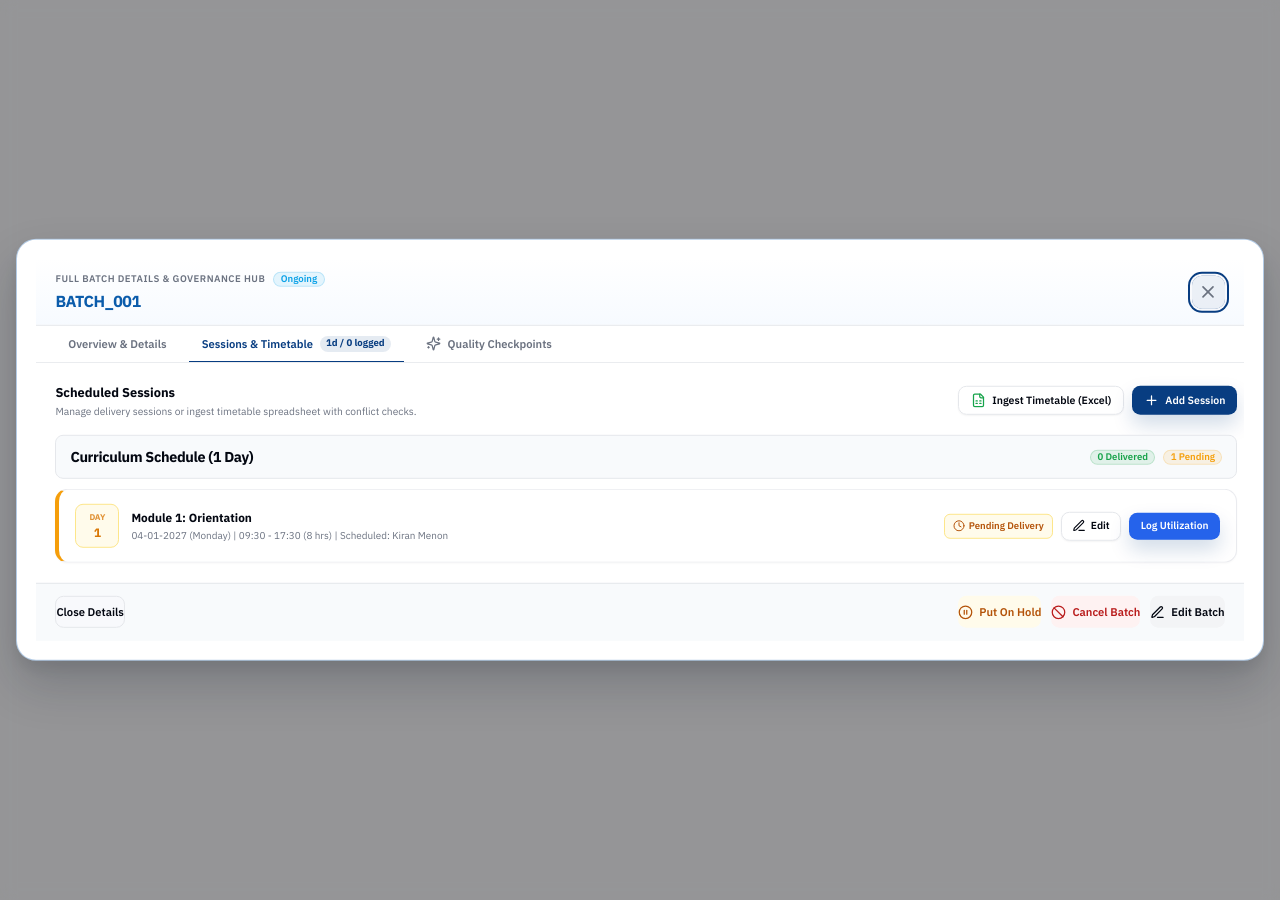
Log Faculty Utilization modal › asks before discarding an edited form, and keeps it open on keep editing
The image size is (1280, 900).
Click the button "Log Utilization".
click(1175, 526)  # box [1129,513,1220,540]
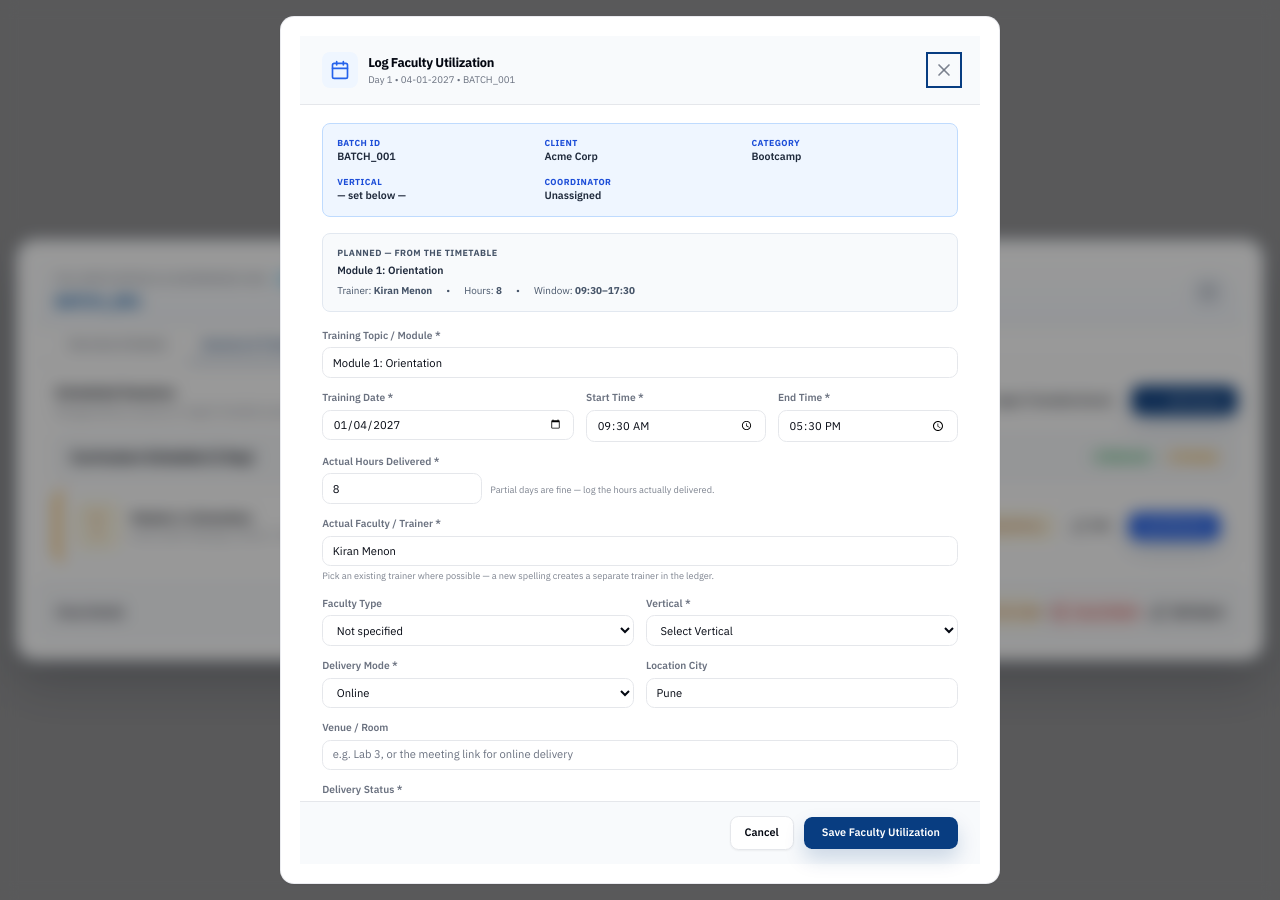
Expected: the dialog "Log Faculty Utilization" is shown, [280,16,1000,884]
Replace the text in the field labelled "Actual Faculty / Trainer *" with "Rohan Dutta" at (640, 551), box [322,536,958,566]
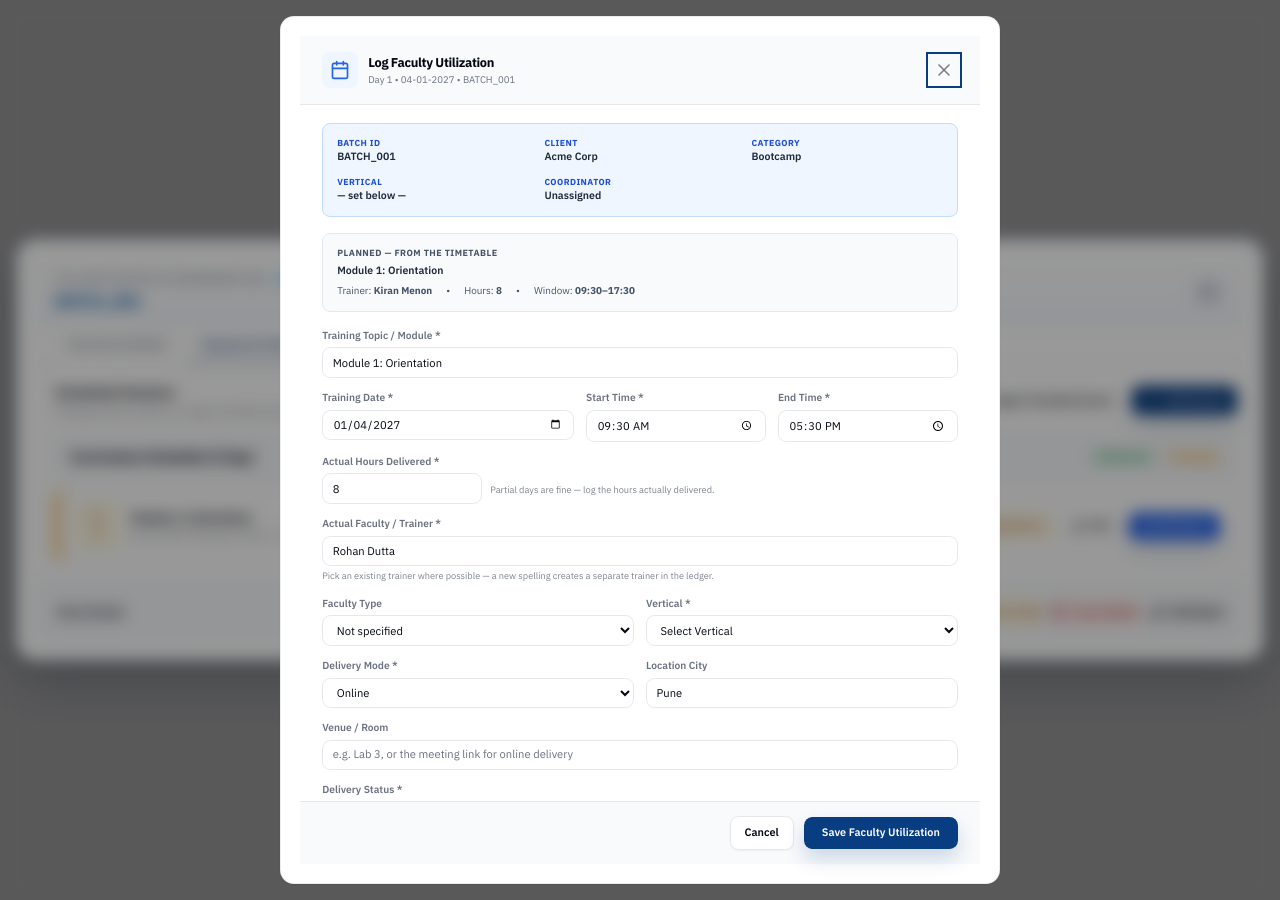
Click the button "Cancel".
click(762, 833)  # box [730,816,794,850]
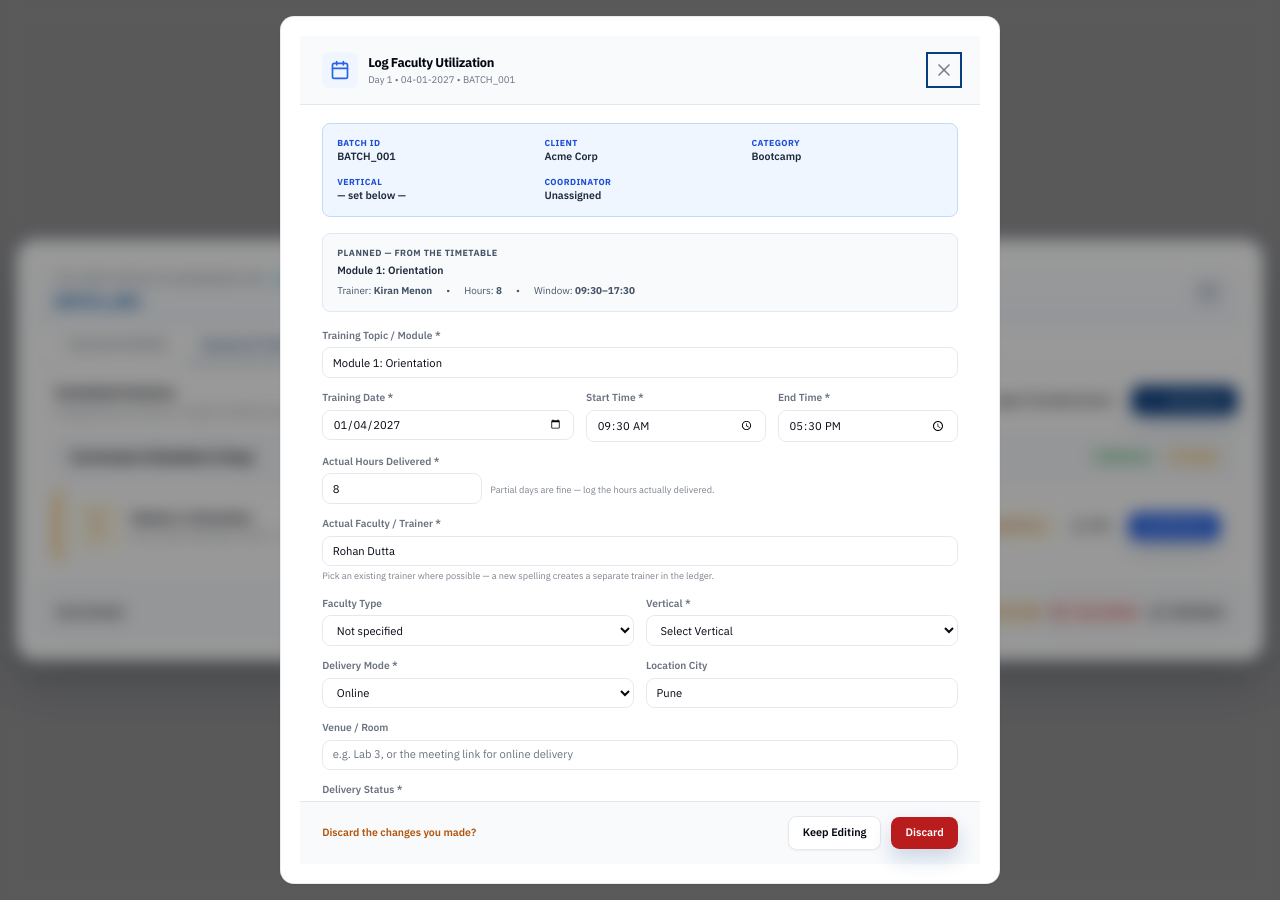
Expected: the dialog "Log Faculty Utilization" is shown, [280,16,1000,884]
Expected: the text "Discard the changes you made?" is shown, [322,825,476,841]
Click the button "Keep Editing".
click(835, 833)  # box [788,816,881,850]
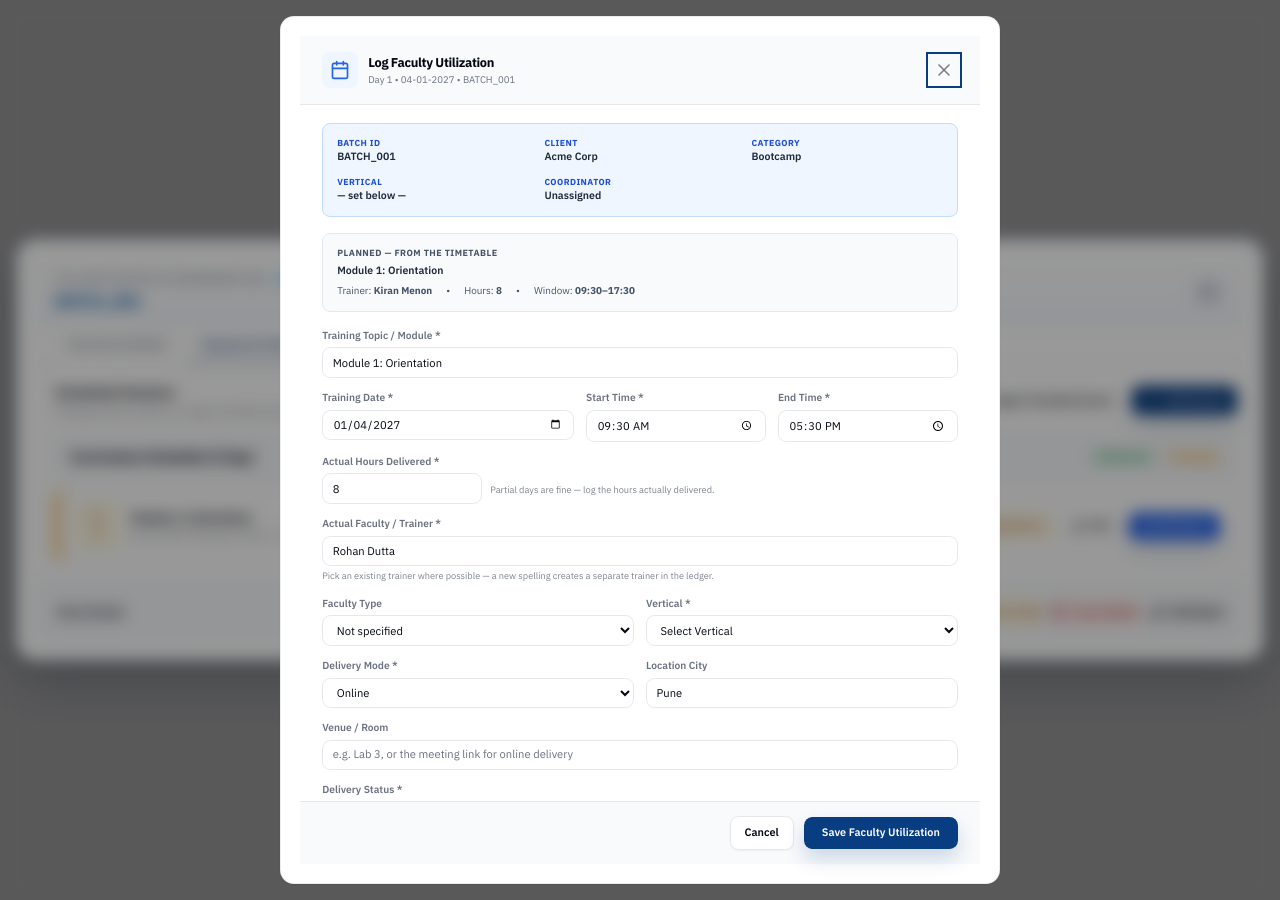
Expected: the dialog "Log Faculty Utilization" is shown, [280,16,1000,884]
Expected: the text "Discard the changes you made" is gone
